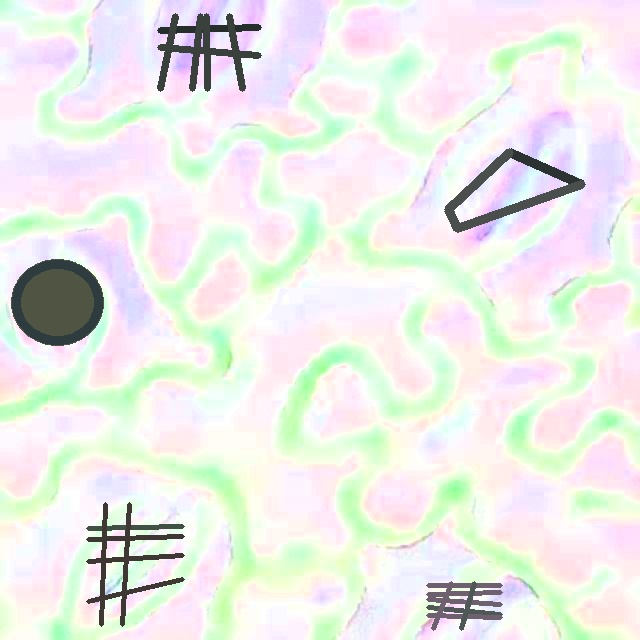open: (87, 502, 184, 625), (444, 148, 585, 232), (10, 259, 104, 345), (157, 14, 260, 91), (426, 581, 502, 630)
